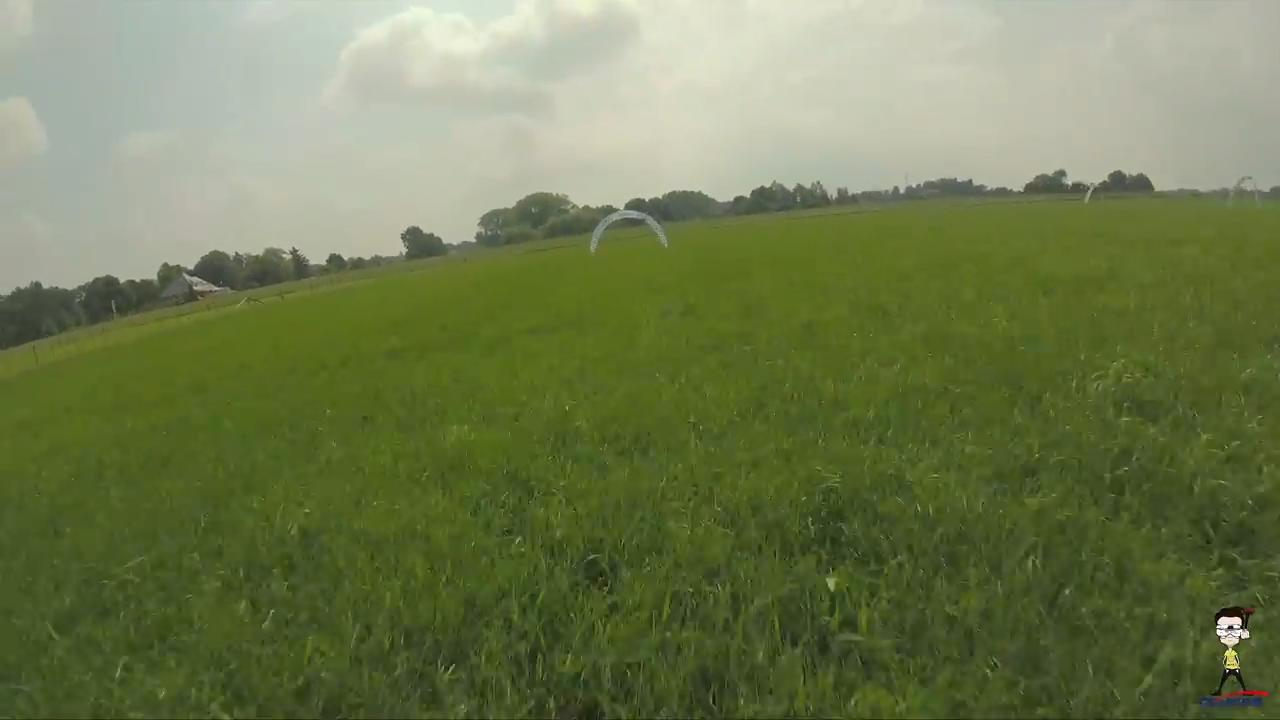gate: (588, 210, 666, 253)
